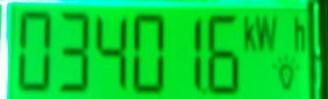.: (241, 13, 309, 54)
1: (17, 10, 51, 92), (133, 13, 167, 94)
2: (193, 17, 204, 90)
4: (57, 12, 93, 93)
5: (95, 15, 130, 92)
7: (206, 13, 244, 94)
